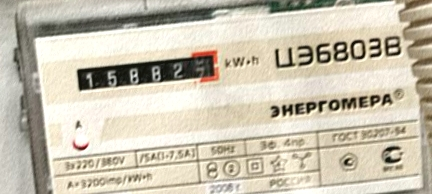1: (84, 71, 96, 90)
2: (172, 61, 184, 79)
5: (105, 69, 118, 87)
7: (194, 66, 206, 79)
8: (128, 67, 140, 84), (151, 65, 162, 82)
screen: (69, 47, 227, 97)
